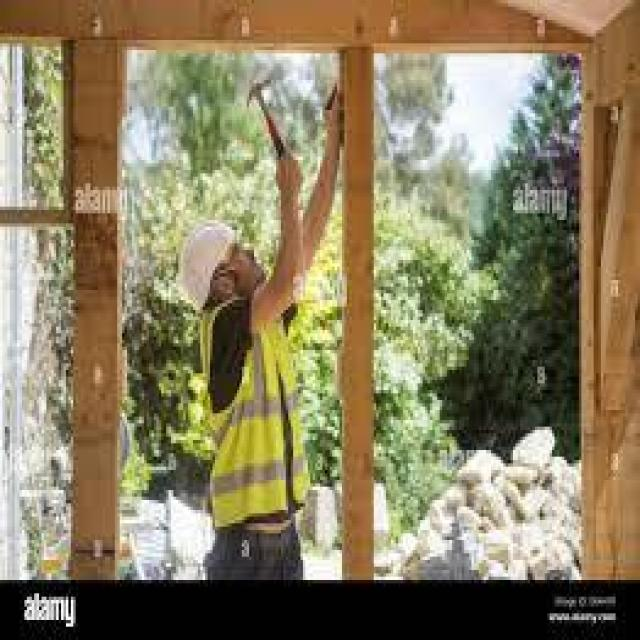safety_helmet: (197, 297, 309, 529)
